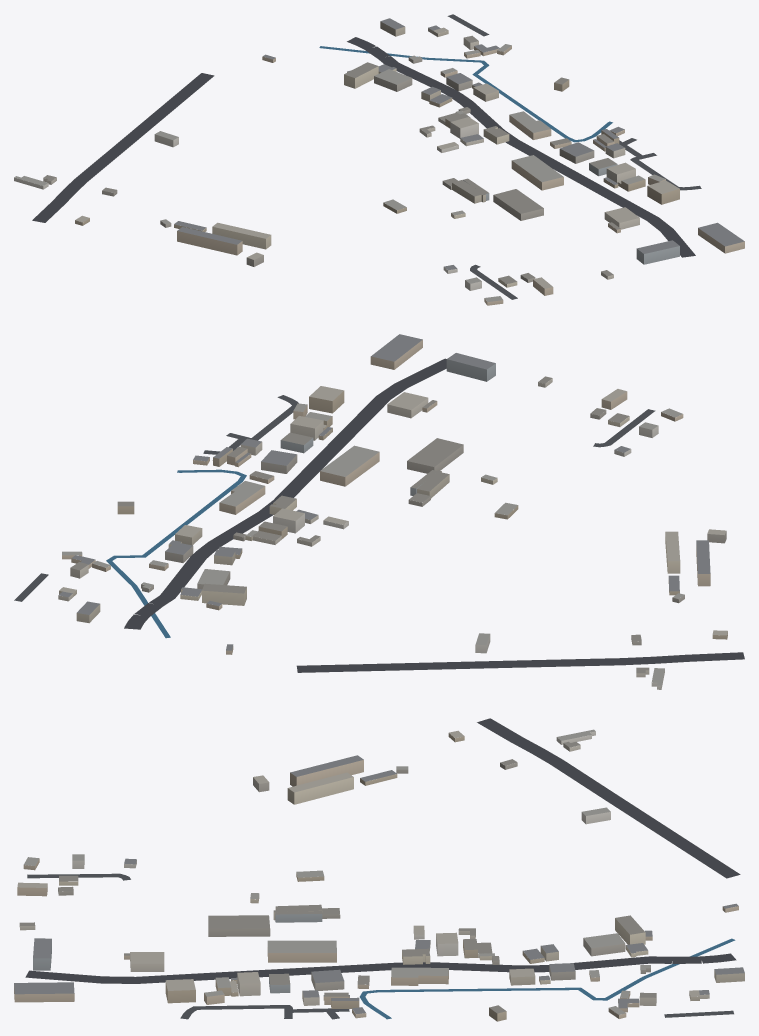
3 views of the same model, one above another, from view 1: azimuth 30°, elevation 25°; view 2: azimuth 150°, elevation 25°; view 3: azimuth 270°, elevation 25° (orthographic). The views are drawn at different scales.
Visible parts, largest first — view 1: buildings_walls, buildings_roofs, roads, water; view 2: buildings_roofs, buildings_walls, roads, water; view 3: buildings_roofs, buildings_walls, roads, water.
Part boxes in pixels (x1=…): buildings_walls: x1=14, y1=21, x2=744, y2=305; buildings_roofs: x1=14, y1=18, x2=744, y2=301; roads: x1=32, y1=14, x2=701, y2=299; water: x1=319, y1=46, x2=612, y2=142; buildings_roofs: x1=59, y1=334, x2=727, y2=685; buildings_walls: x1=58, y1=340, x2=727, y2=689; roads: x1=14, y1=358, x2=744, y2=672; water: x1=106, y1=469, x2=246, y2=638; buildings_roofs: x1=14, y1=729, x2=744, y2=1014; buildings_walls: x1=14, y1=731, x2=744, y2=1021; roads: x1=25, y1=718, x2=740, y2=1019; water: x1=359, y1=938, x2=735, y2=1019.
Bounding box in the file's own units: 508 × 9.6 × 517.
